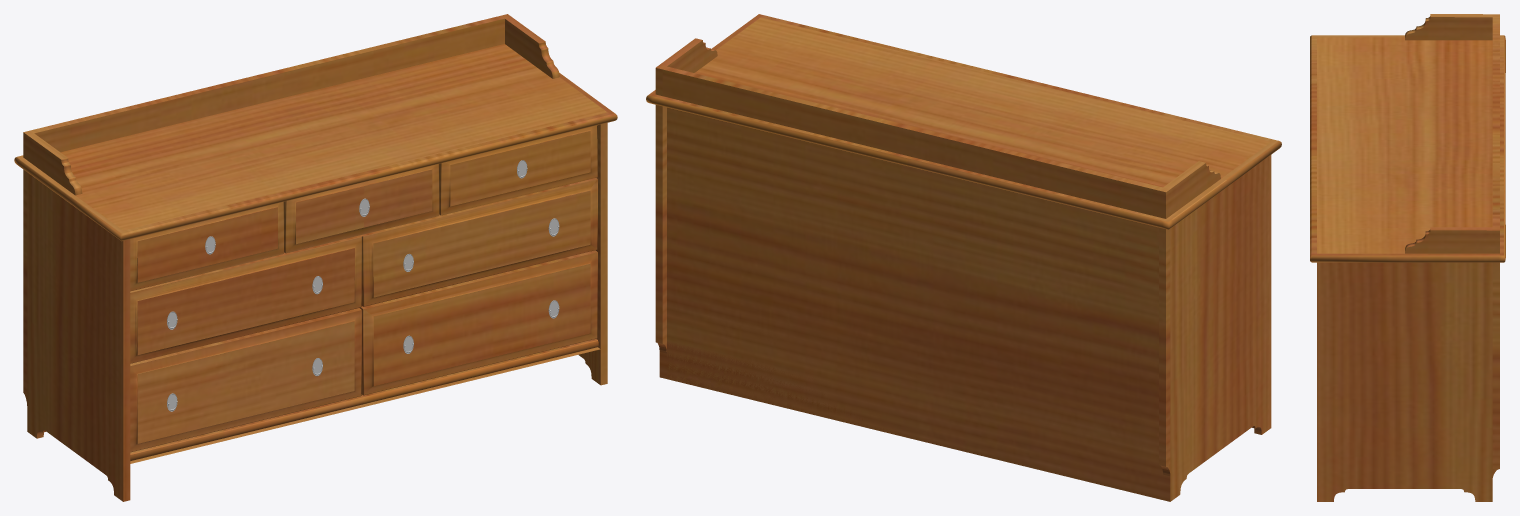
Rendered from dresser.glb.
3 views of the same model, side by side, from view 1: azimuth 30°, elevation 25°; view 2: azimuth 150°, elevation 25°; view 3: azimuth 270°, elevation 25° (orthographic). The views are drawn at different scales.
Visible parts, largest first — view 1: chest; view 2: chest; view 3: chest.
Part boxes in pixels (bbox=[...]): chest: bbox=[14, 14, 617, 501]; chest: bbox=[646, 14, 1281, 501]; chest: bbox=[1310, 14, 1505, 501].
Bounding box in the file's own units: 1.44 × 0.82 × 0.536.
Materials: 2 (1 with a texture image).
